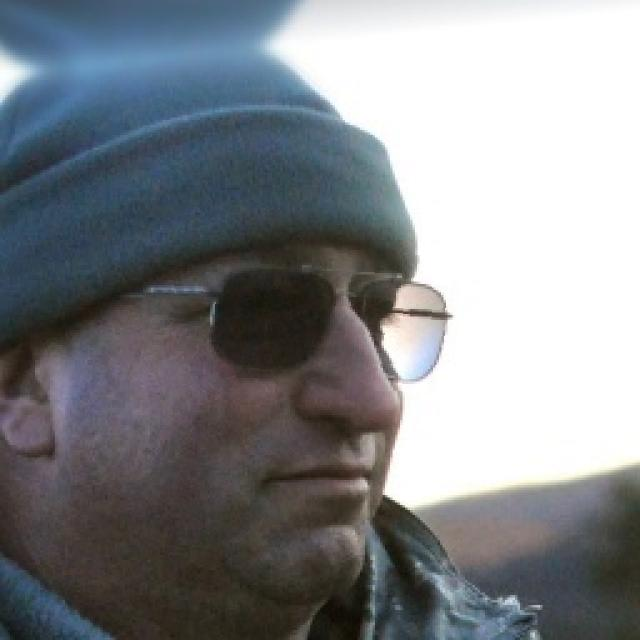glasses: (141, 248, 463, 391)
